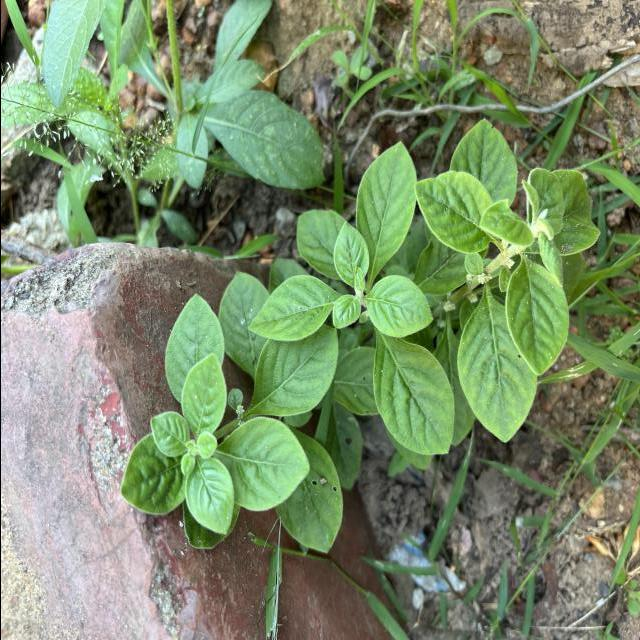Aerva lanata: (453, 283, 540, 447), (371, 336, 456, 458), (212, 414, 311, 515), (244, 323, 340, 419), (352, 140, 418, 278), (501, 256, 570, 380), (410, 168, 499, 257), (161, 291, 227, 405), (244, 272, 338, 345), (118, 429, 194, 518), (362, 272, 436, 340), (178, 348, 228, 442), (182, 458, 235, 540), (330, 216, 372, 288), (146, 408, 192, 460), (329, 292, 362, 330)
